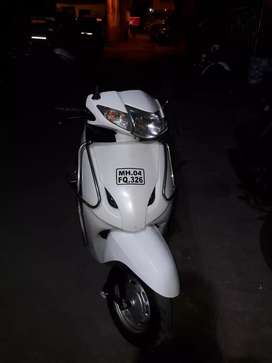doublelinenumberplate: (115, 166, 146, 186)
